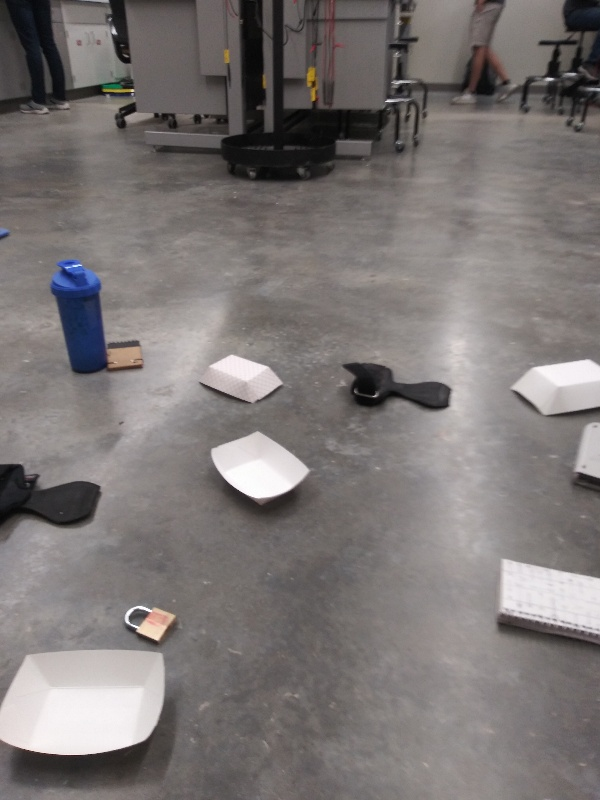plate: (1, 646, 176, 760), (206, 427, 316, 511), (509, 357, 600, 420), (195, 351, 288, 407)
